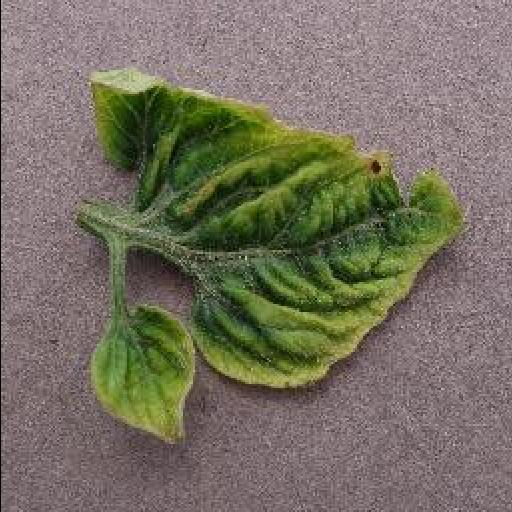disease_tomato: (90, 71, 470, 388), (92, 298, 194, 448)
